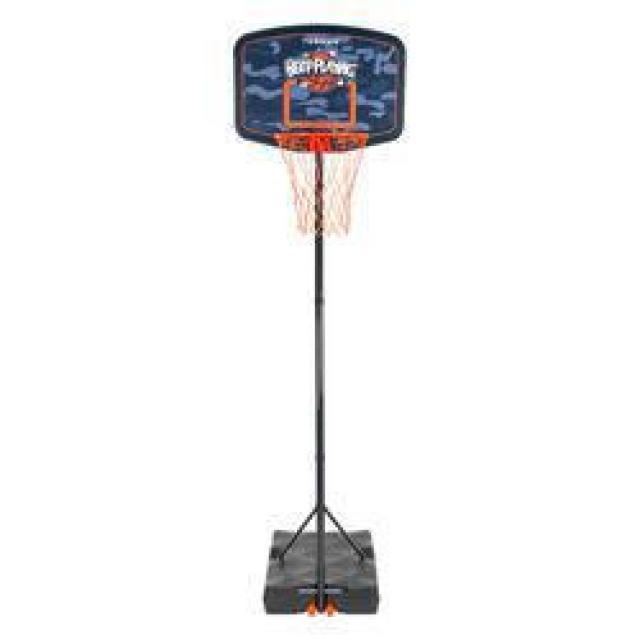hoop: (274, 133, 368, 236)
